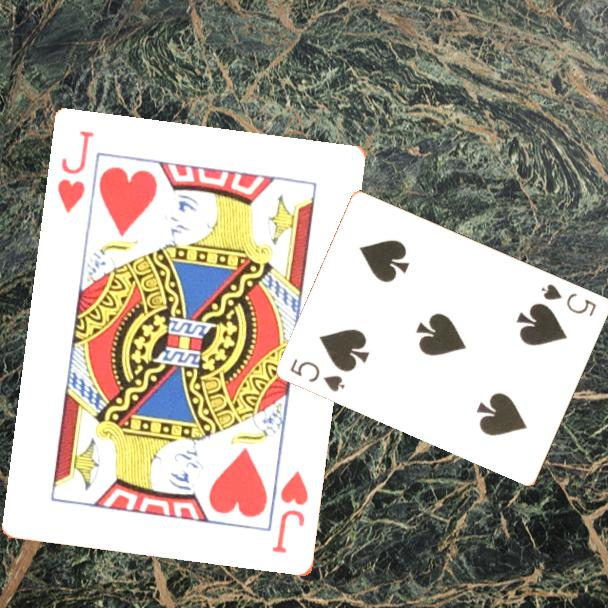h11: (268, 467, 312, 557), (54, 128, 98, 217)
s05: (287, 355, 348, 395), (538, 280, 599, 319)
